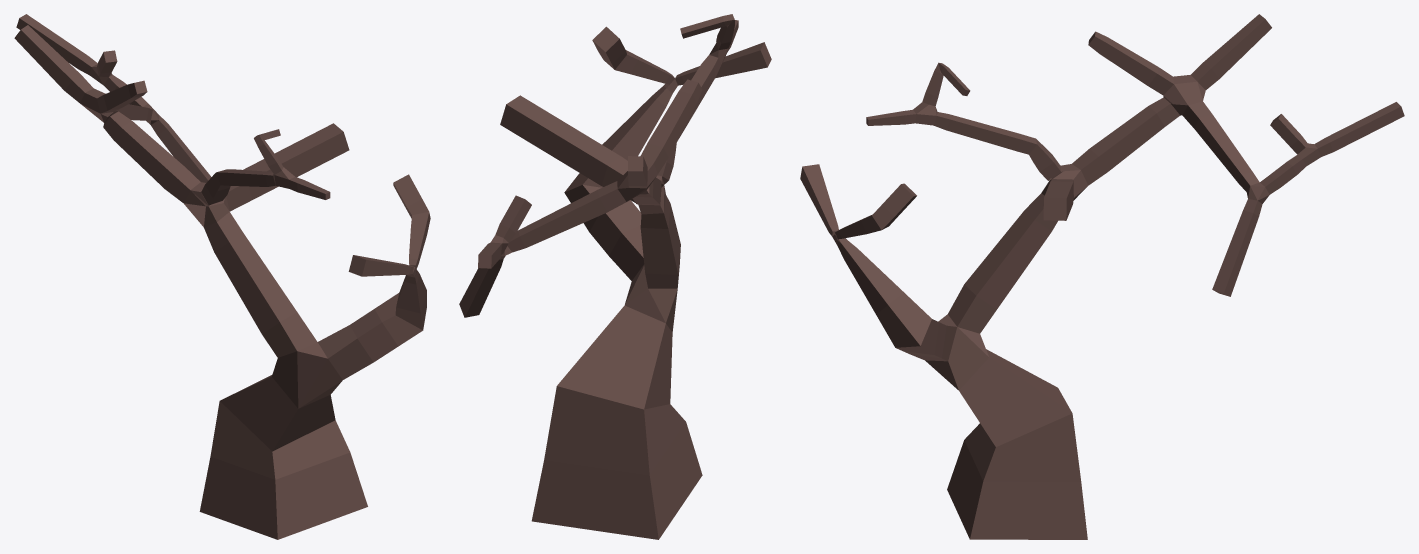
Rendered from DEAD TREE.fbx.
3 renders of one model, left to right at view 1: azimuth 30°, elevation 25°; view 2: azimuth 150°, elevation 25°; view 3: azimuth 270°, elevation 25°, orthographic. The views are drawn at different scales.
Visible parts, largest first — view 1: Cube.001; view 2: Cube.001; view 3: Cube.001.
Part boxes in pixels (x1,y1,x2,y2): Cube.001: (14, 14, 430, 539); Cube.001: (459, 14, 771, 539); Cube.001: (800, 14, 1404, 539).
Size of the model in its own units: 4.25 by 9.15 by 7.27.
